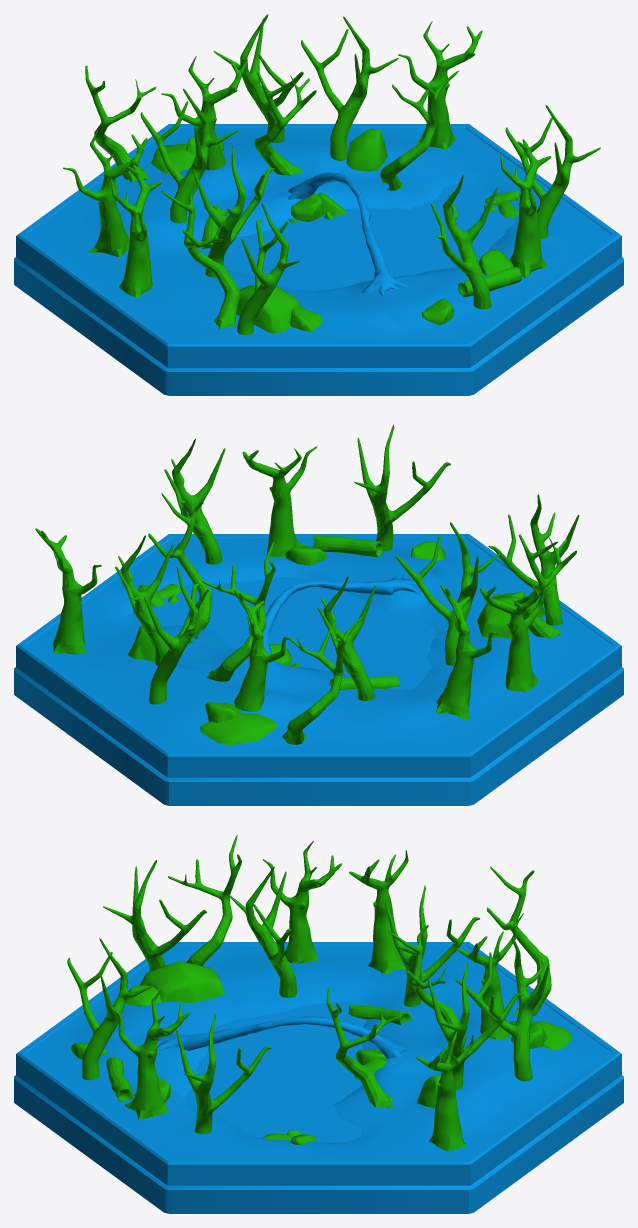
The model's file is ForestBase-Death.fbx.
3 views of the same model, one above another, from view 1: azimuth 30°, elevation 25°; view 2: azimuth 150°, elevation 25°; view 3: azimuth 270°, elevation 25° (orthographic).
Parts seen in each view (by area): view 1: Base_low, TreeRock_low, Frame_low, Water_low; view 2: Base_low, TreeRock_low, Frame_low, Water_low; view 3: Base_low, TreeRock_low, Frame_low, Water_low.
Boxes of the visible parts, <box> form: Base_low: <box>26,127,611,341</box>; TreeRock_low: <box>63,14,600,334</box>; Frame_low: <box>14,124,623,395</box>; Water_low: <box>196,182,515,290</box>; Base_low: <box>27,537,611,751</box>; TreeRock_low: <box>35,424,579,745</box>; Frame_low: <box>14,534,623,805</box>; Water_low: <box>129,577,435,689</box>; Base_low: <box>26,945,611,1159</box>; TreeRock_low: <box>67,835,572,1151</box>; Frame_low: <box>14,942,623,1213</box>; Water_low: <box>185,1001,367,1142</box>.
Size of the model in its own units: 700 by 275 by 804.
